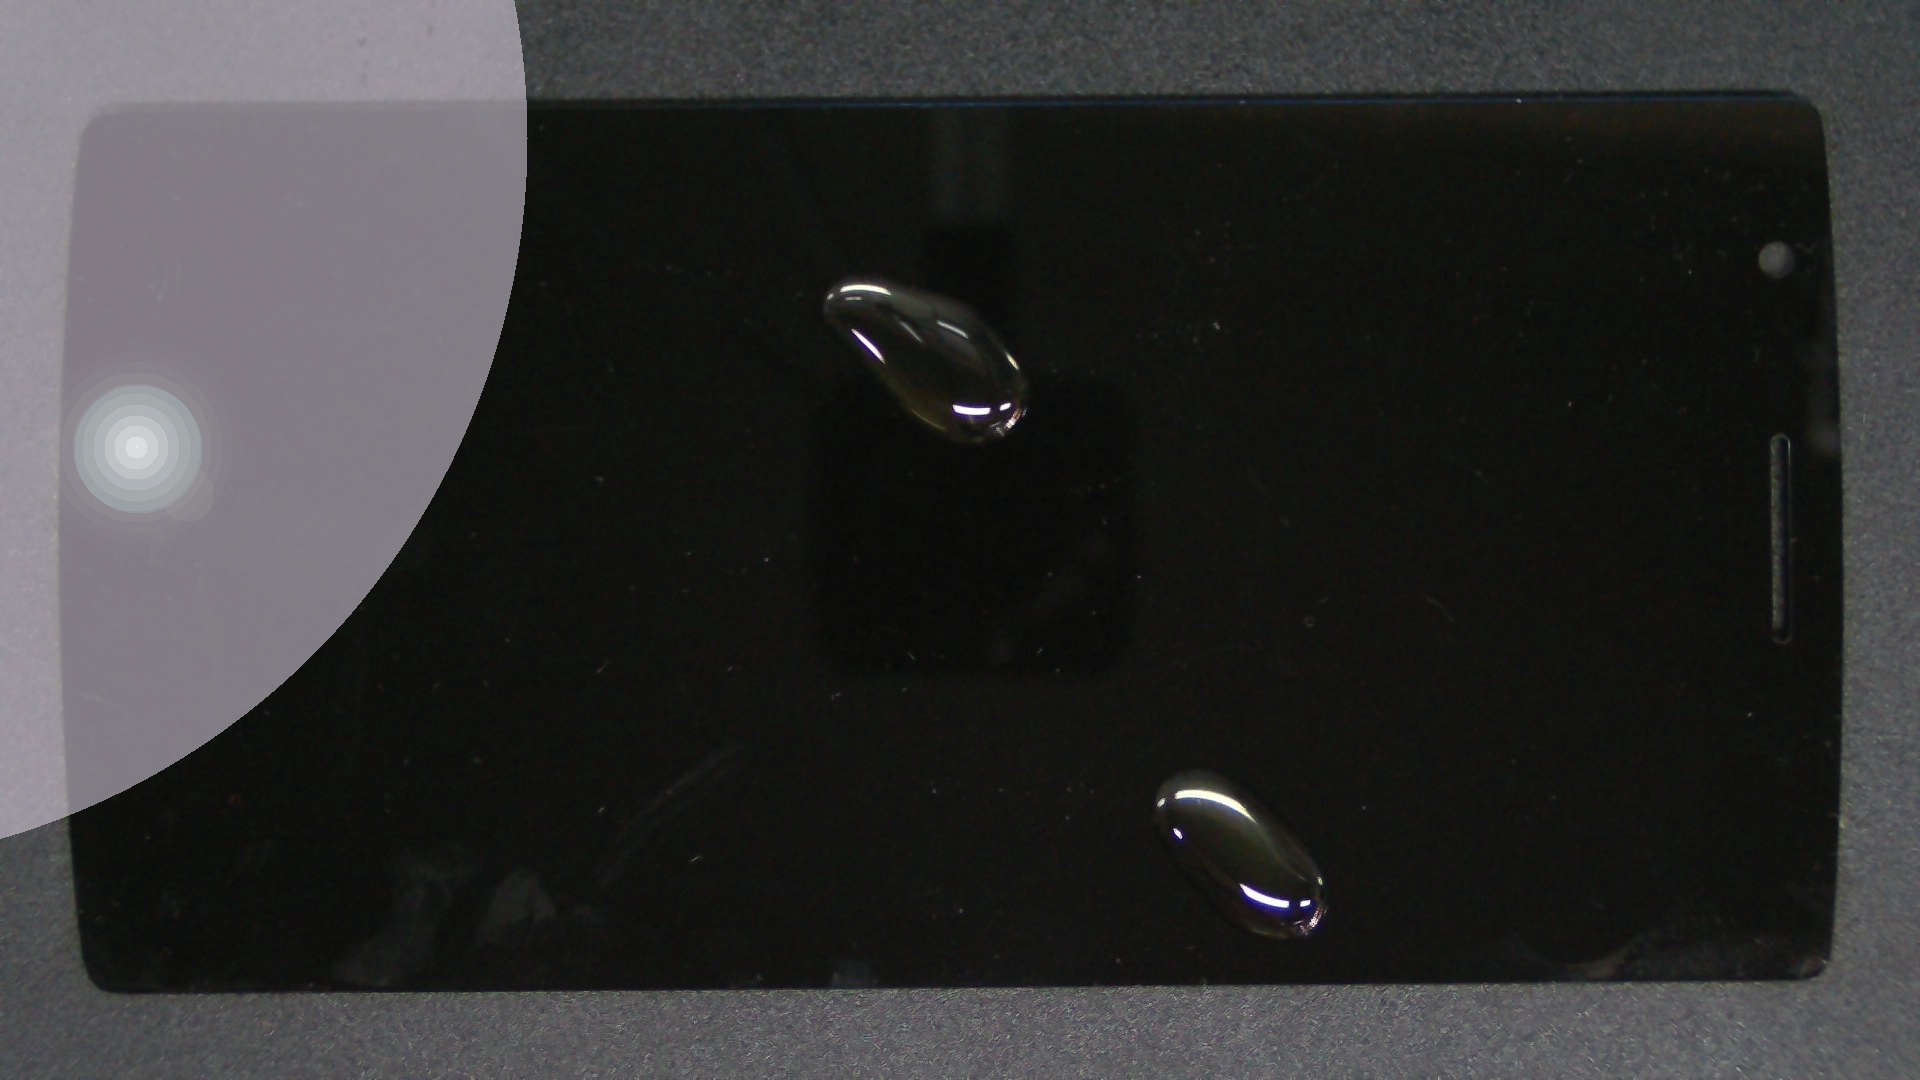oil: (593, 385, 1779, 1080), (435, 138, 1304, 415)
